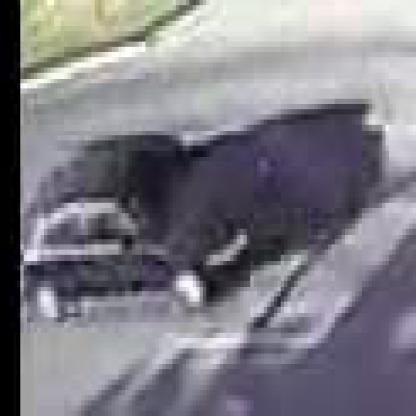car: (22, 136, 252, 329)
